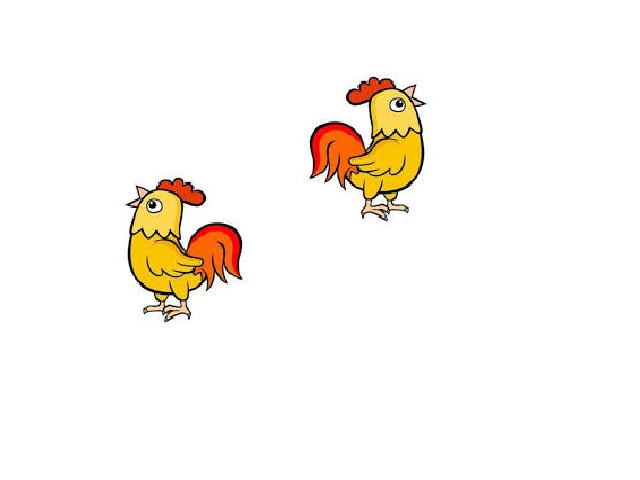crown: (159, 176, 209, 207), (338, 76, 395, 103)
eyes: (390, 97, 406, 112), (144, 200, 163, 211)
feet: (141, 297, 193, 326), (356, 200, 412, 222)
tail: (304, 114, 365, 194), (191, 216, 242, 288)
